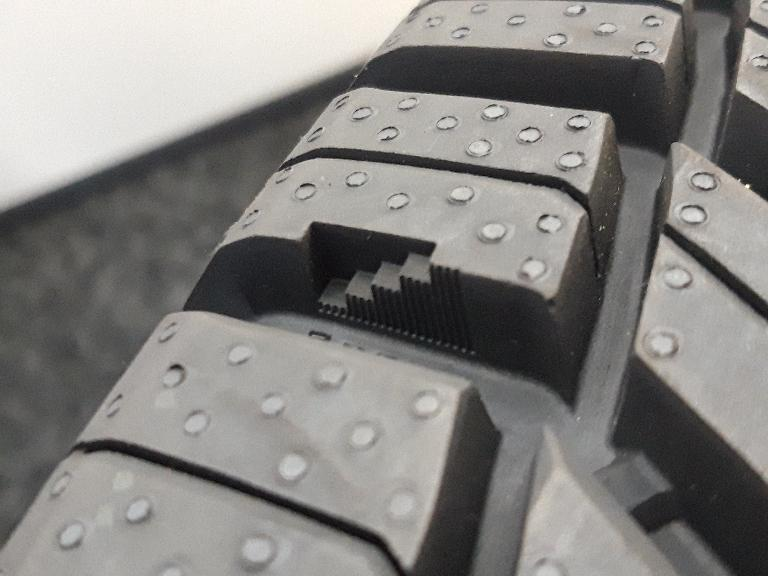temoin:100: (289, 215, 481, 366)
